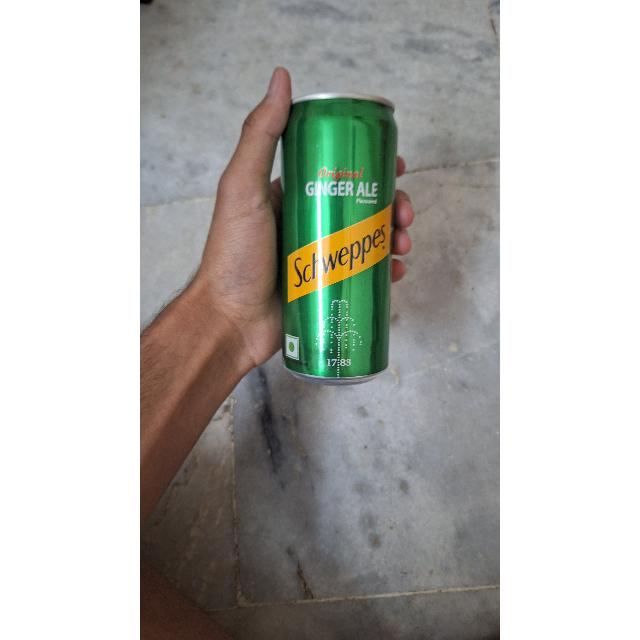Schweppes: (280, 87, 402, 386)
